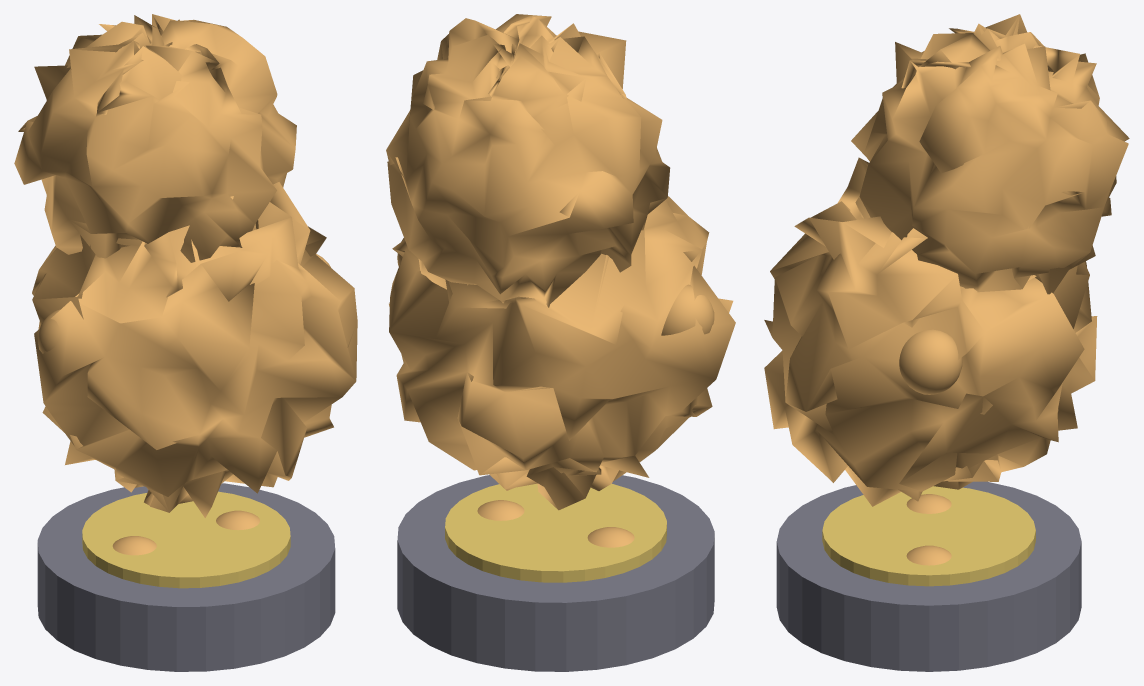
Rendered from clay_bat_cat_dj.glb.
3 renders of one model, left to right at view 1: azimuth 30°, elevation 25°; view 2: azimuth 150°, elevation 25°; view 3: azimuth 270°, elevation 25°, orthographic. The views are drawn at different scales.
Parts seen in each view (by area): view 1: platter; view 2: platter; view 3: platter.
Part boxes in pixels (x1=…): platter: x1=14, y1=14, x2=357, y2=671; platter: x1=386, y1=14, x2=735, y2=671; platter: x1=764, y1=14, x2=1129, y2=671.
Bounding box in the file's own units: 1.13 × 2.07 × 1.2.
